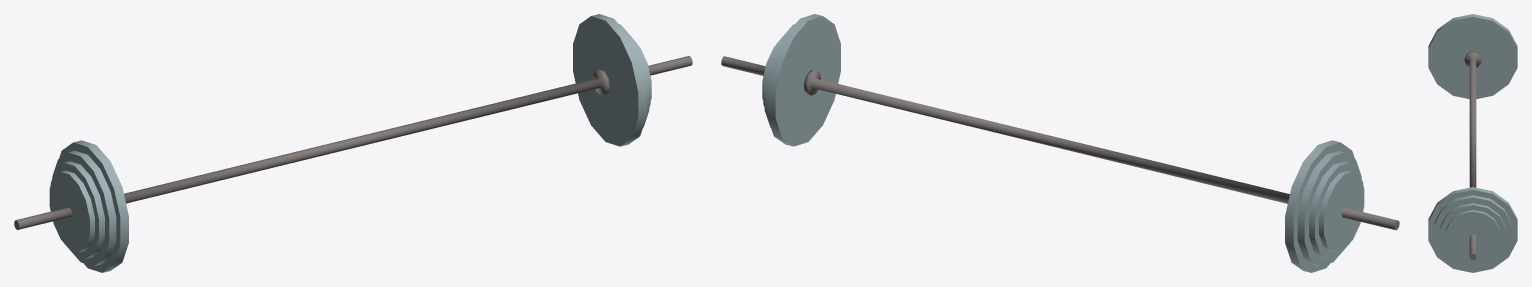
The model's file is SM_Pancakes_02.fbx.
3 renders of one model, left to right at view 1: azimuth 30°, elevation 25°; view 2: azimuth 150°, elevation 25°; view 3: azimuth 270°, elevation 25°, orthographic. The views are drawn at different scales.
Parts seen in each view (by area): view 1: SM_Pancakes_02; view 2: SM_Pancakes_02; view 3: SM_Pancakes_02.
Boxes of the visible parts, box(x1,y1,x2,y2) form: SM_Pancakes_02: box(14, 14, 692, 272); SM_Pancakes_02: box(721, 14, 1399, 272); SM_Pancakes_02: box(1428, 14, 1517, 272).
Size of the model in its own units: 281 by 48.36 by 47.15.
Materials: 1 (1 with a texture image).
